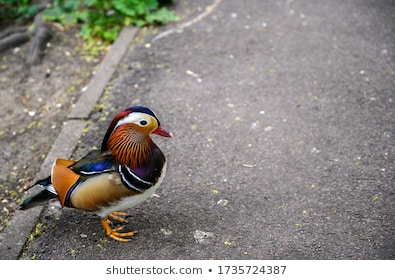duck: (18, 83, 184, 245)
